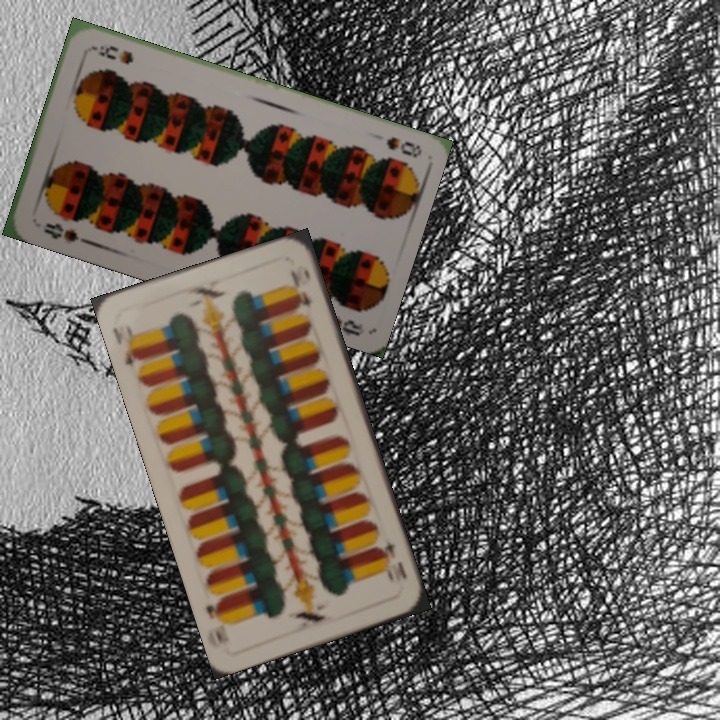E10: (108, 323, 146, 371), (374, 533, 410, 583)
S8: (40, 219, 89, 246), (382, 132, 423, 160)
